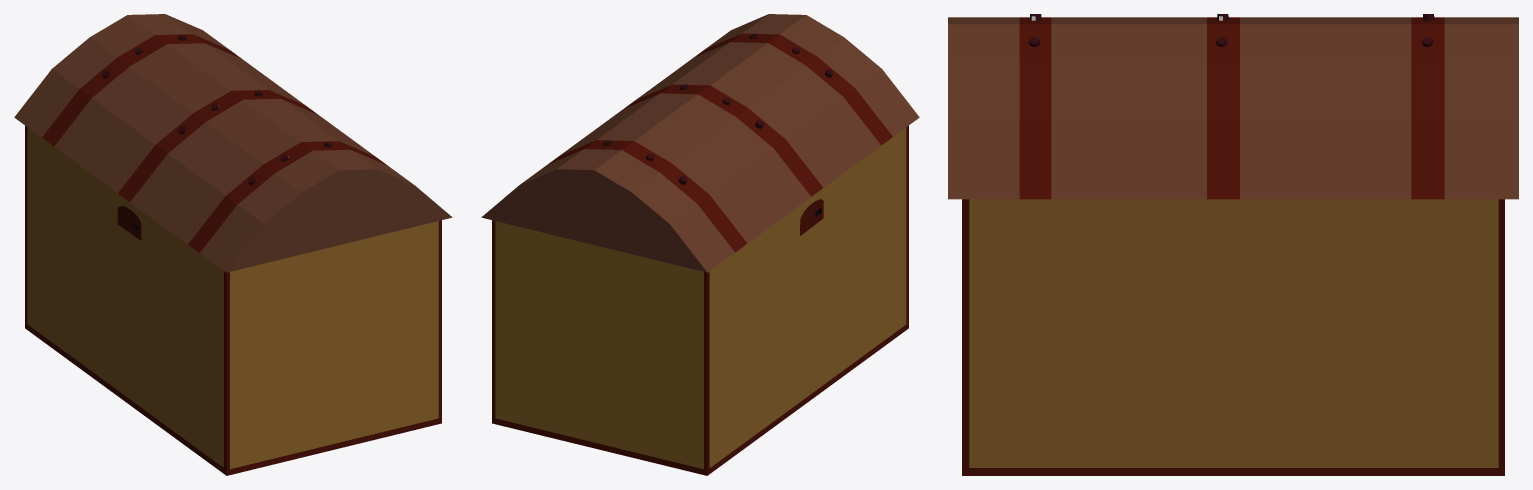
File: sandık 1.fbx
The picture shows the model from 3 angles, left to right: view 1: azimuth 30°, elevation 25°; view 2: azimuth 150°, elevation 25°; view 3: azimuth 270°, elevation 25°; orthographic projection. The views are drawn at different scales.
Parts seen in each view (by area): view 1: Cube; view 2: Cube; view 3: Cube.
Boxes of the visible parts, box(x1,y1,x2,y2) form: Cube: box(14, 14, 452, 475); Cube: box(481, 14, 919, 475); Cube: box(948, 14, 1518, 475).
Bounding box in the file's own units: 223 × 267 × 362.
